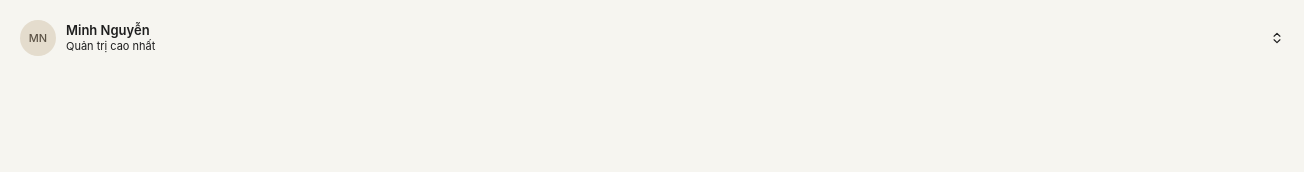
shows the account name and only profile/logout, closes with Escape and restores focus
The width and height of the screenshot is (1304, 172).
Later steps or results of the test are not shown.
Click the button with aria-label "Tài khoản Minh Nguyễn": (38, 38) x1=12 y1=12 x2=1292 y2=64
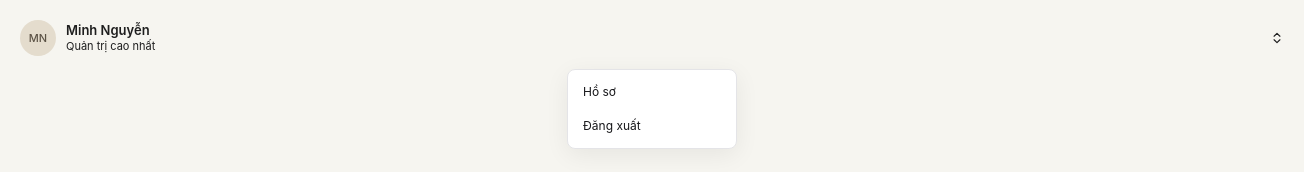
Now the number of menu items is 2, box x1=583 y1=84 x2=616 y2=99; x1=583 y1=118 x2=641 y2=133
Now the menu item "Hồ sơ" is shown, box x1=583 y1=84 x2=616 y2=99
Now the menu item "Đăng xuất" is shown, box x1=583 y1=118 x2=641 y2=133
